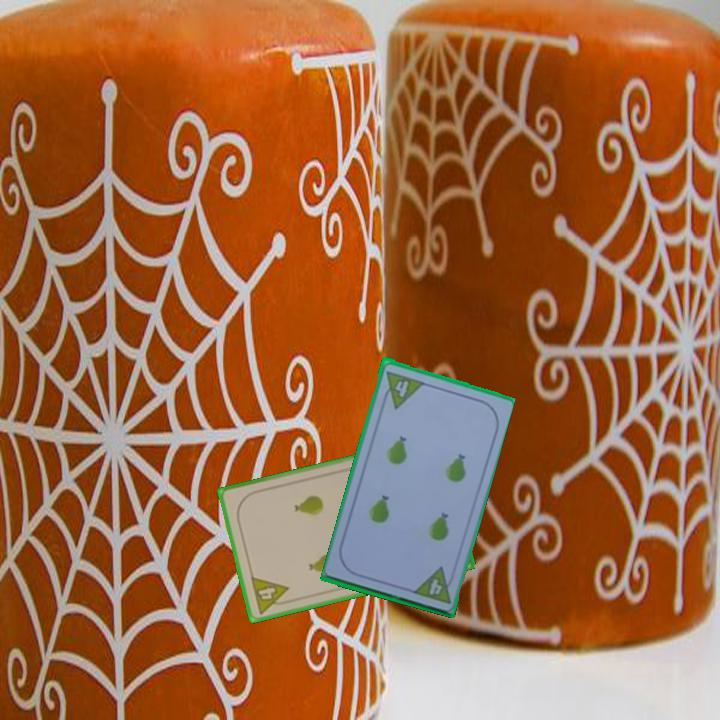4p: (378, 367, 426, 411), (247, 573, 294, 617), (410, 563, 458, 606)
